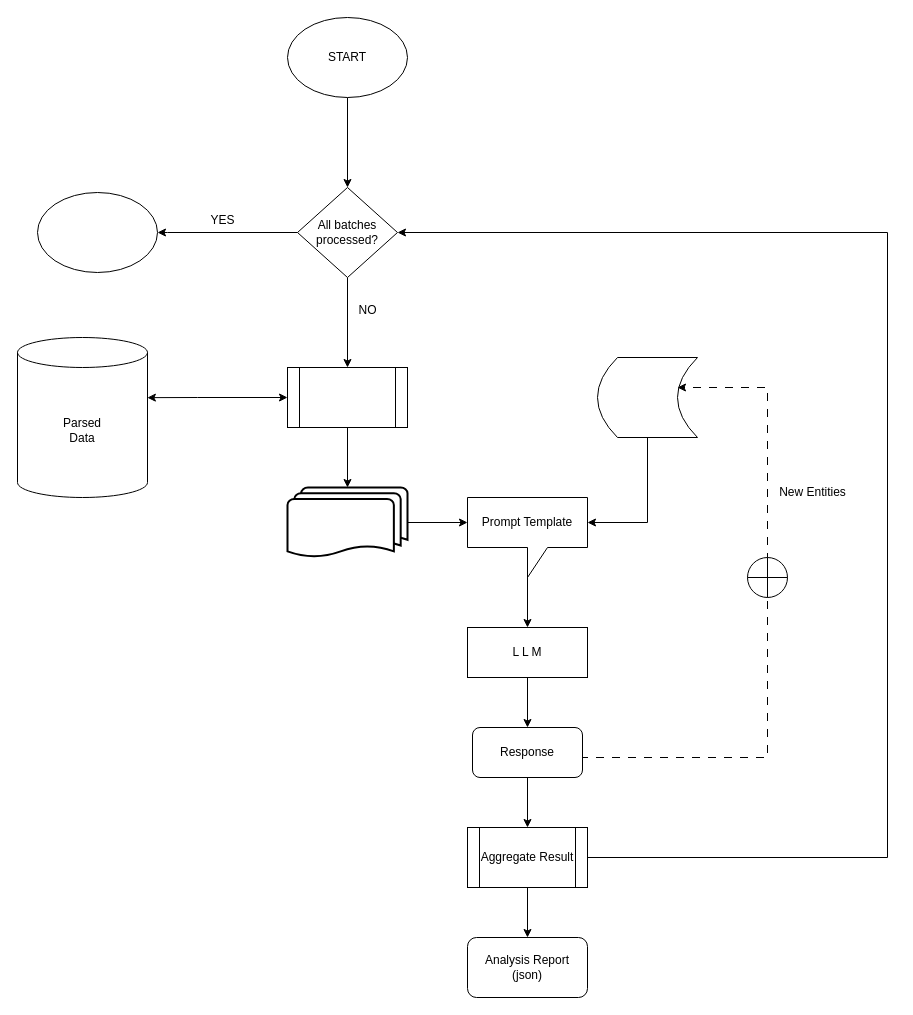
The diagram is 913 pixels wide and 1015 high, and some of its shapes have lost their labels. Each missing label, with the centre of its shape:
"Batch" belongs at point 347,522.
"END" belongs at point 97,232.
"Existing Entities" belongs at point 647,397.
"Load Batch" belongs at point 347,397.
